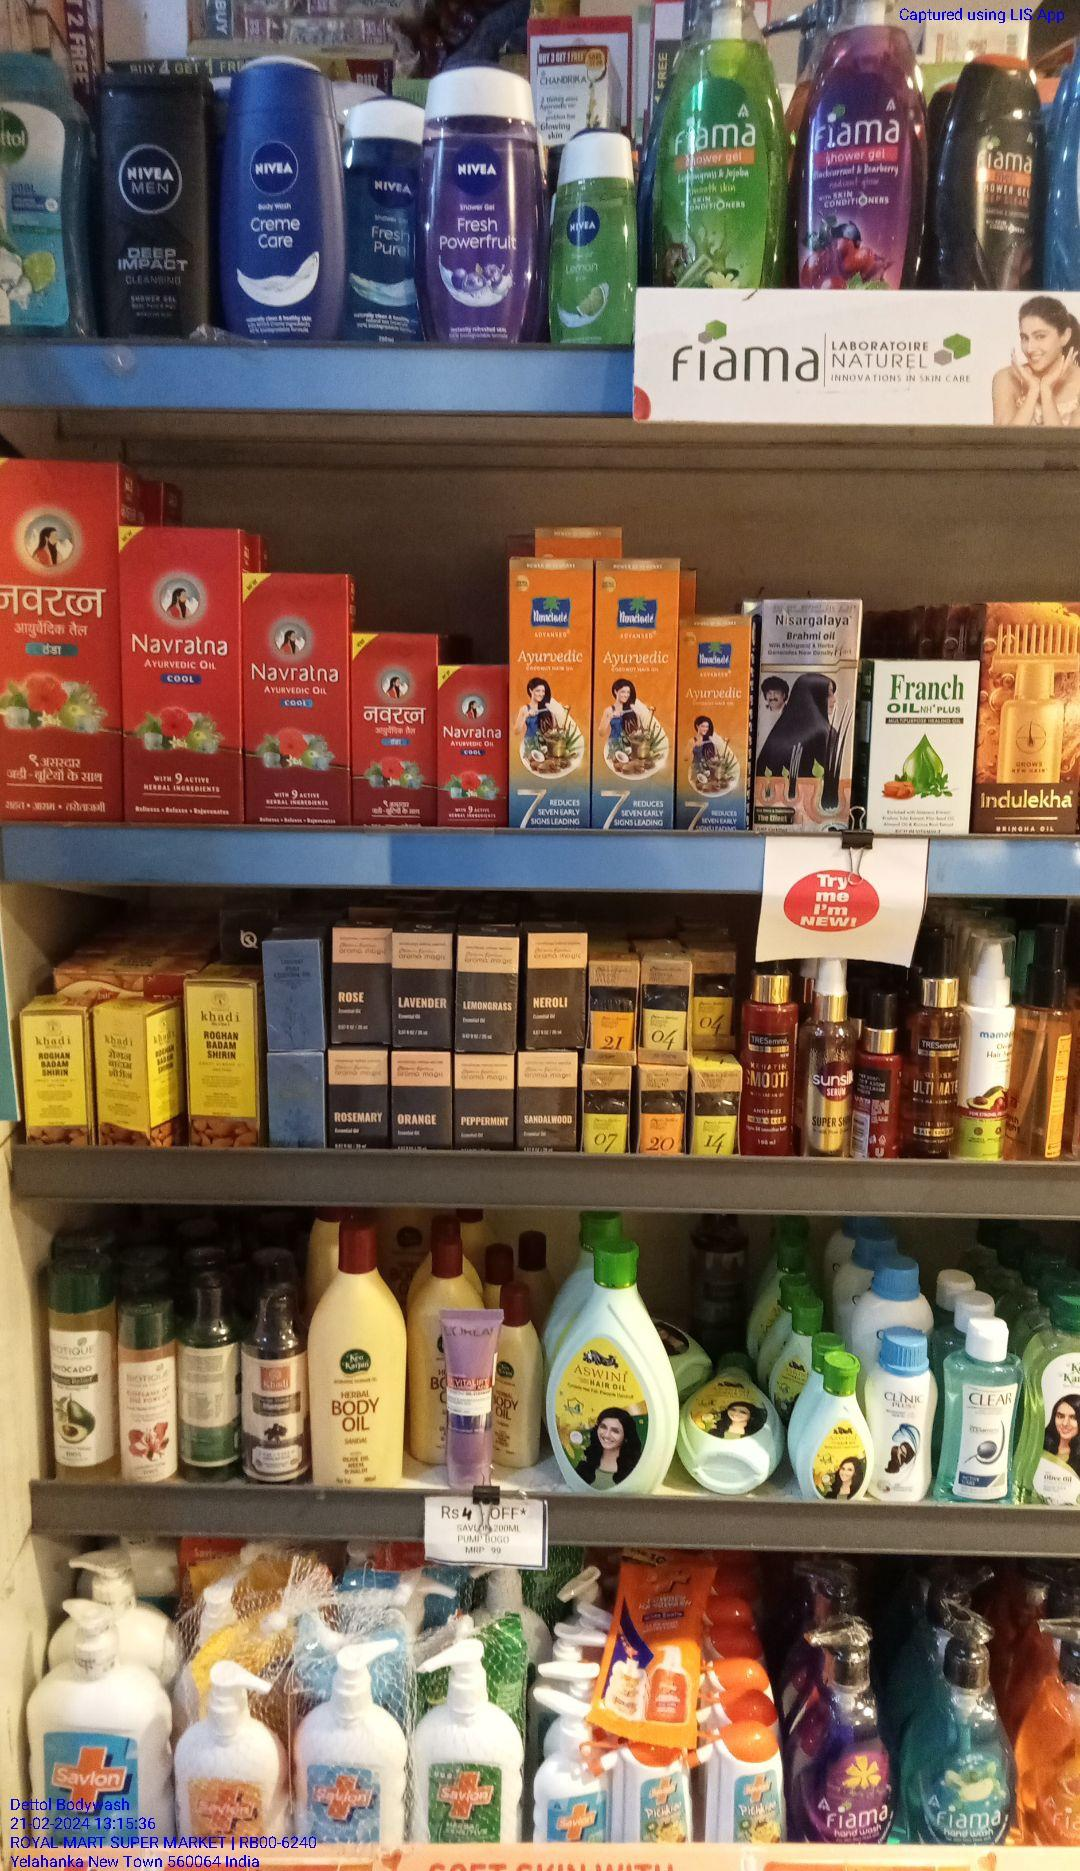Nivea_Creme_Care_Body_Wash_250ML: (213, 53, 347, 338)
Nivea_Shower_Gel_Fresh_Powerfruit_250ML: (417, 60, 536, 342)
